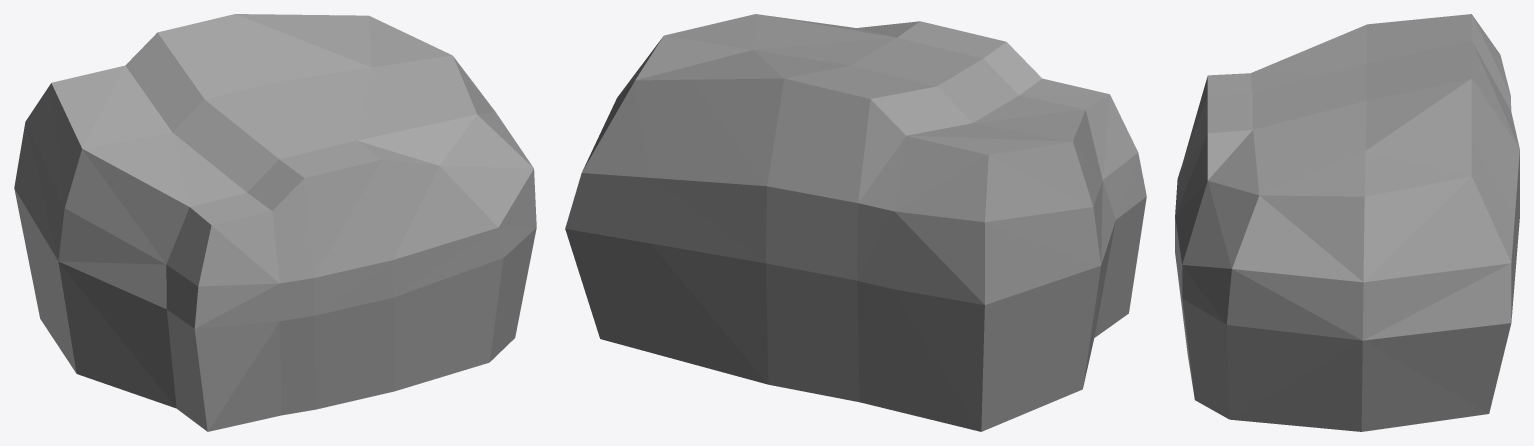
Rendered from Rock_02_vf.FBX.
3 views of the same model, side by side, from view 1: azimuth 30°, elevation 25°; view 2: azimuth 150°, elevation 25°; view 3: azimuth 270°, elevation 25° (orthographic). The views are drawn at different scales.
Visible parts, largest first — view 1: Box001; view 2: Box001; view 3: Box001.
Boxes of the visible parts, x1,y1,x2,y2 form: Box001: [14, 14, 536, 431]; Box001: [565, 14, 1146, 431]; Box001: [1175, 14, 1519, 431].
Size of the model in its own units: 65.67 by 38.89 by 45.
Materials: 1 (1 with a texture image).
